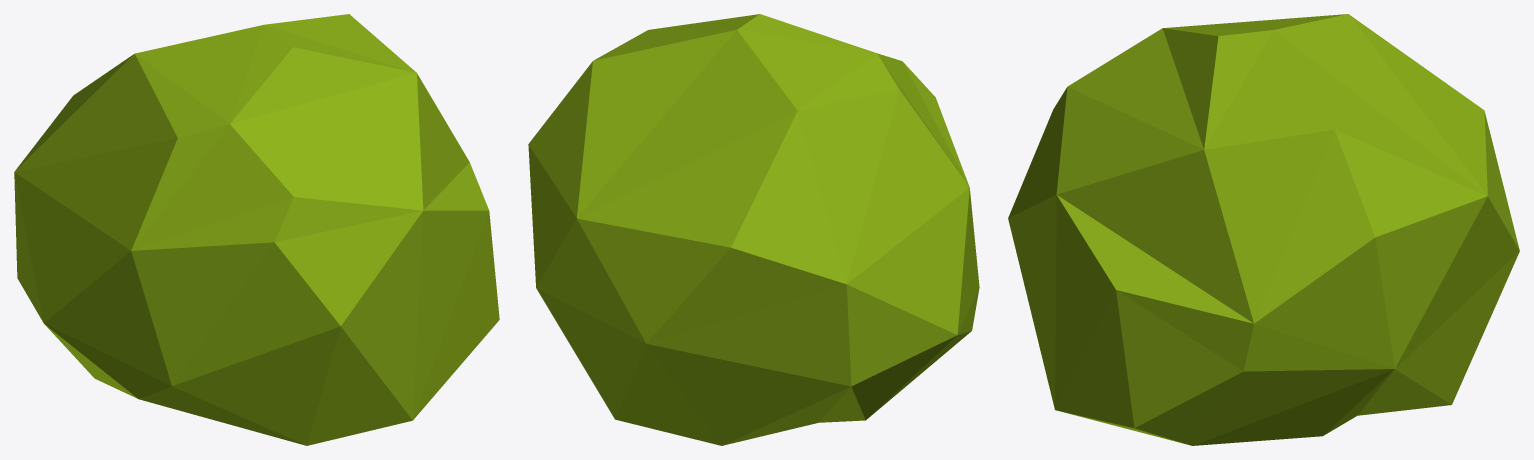
The model's file is bush_02.FBX.
3 renders of one model, left to right at view 1: azimuth 30°, elevation 25°; view 2: azimuth 150°, elevation 25°; view 3: azimuth 270°, elevation 25°, orthographic. The views are drawn at different scales.
Visible parts, largest first — view 1: bush_01; view 2: bush_01; view 3: bush_01.
Boxes of the visible parts, <box> form: bush_01: <box>14,14,499,445</box>; bush_01: <box>528,14,979,445</box>; bush_01: <box>1008,14,1519,445</box>.
Bounding box in the file's own units: 27.22 × 20.95 × 27.15.
Materials: 1 (1 with a texture image).
